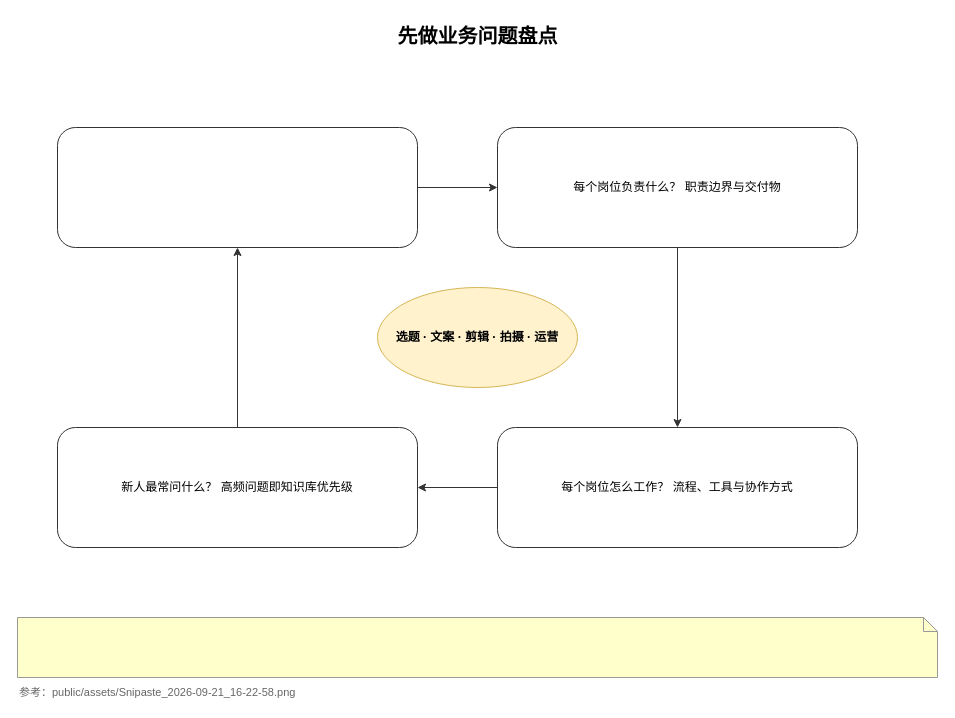
This 955x718 diagram has some shape labels left out. Here are the shapes that lost their labels. From the top down, the box of each, then its label:
(56, 126, 418, 248): 公司有哪些岗位？ 从组织角色出发，而非从文件夹出发
(16, 616, 938, 678): 知识库不是从文件开始，而是从岗位、流程和问题开始
